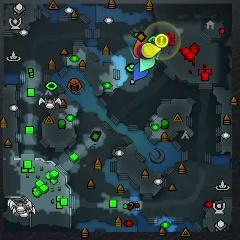Other: (155, 34, 168, 47)
p1: (133, 62, 149, 82)
p2: (139, 57, 156, 72)
p3: (138, 44, 148, 59)
p4: (142, 42, 161, 58)
p5: (133, 38, 143, 57)
